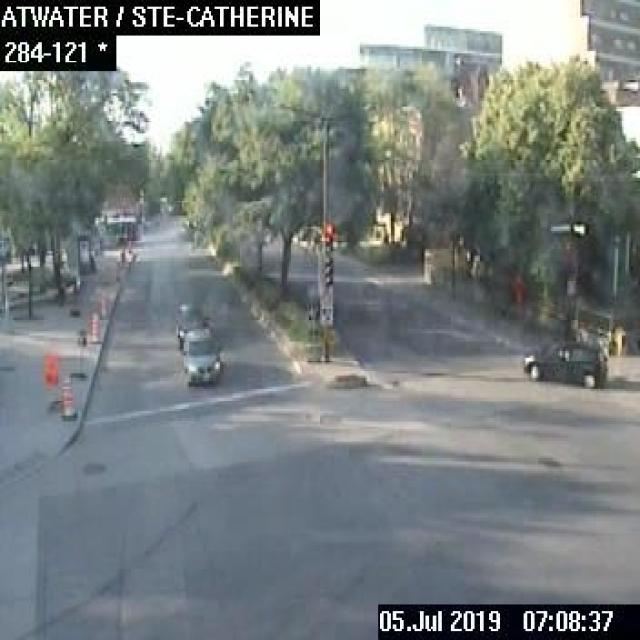bus: (92, 215, 138, 240)
construction: (43, 354, 58, 407), (58, 376, 73, 418), (89, 311, 98, 342), (99, 298, 104, 319)
vehicle: (522, 337, 605, 387), (181, 328, 219, 384), (176, 314, 210, 350)
